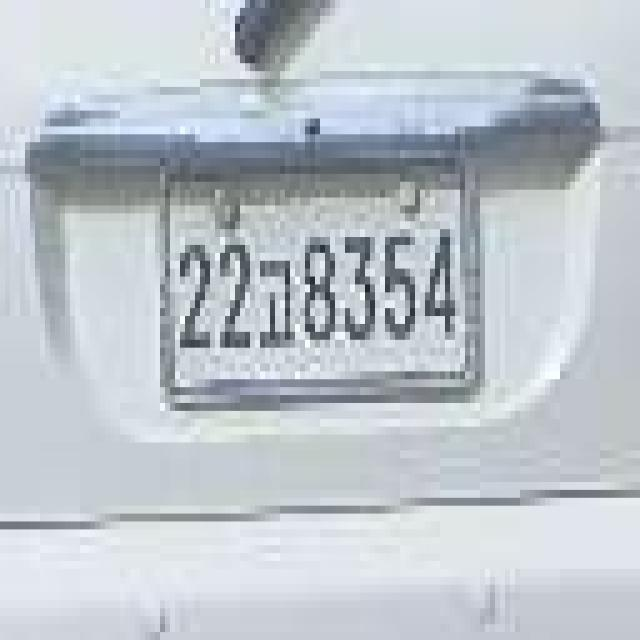2: (217, 224, 255, 362), (177, 224, 213, 361)
3: (343, 215, 378, 352)
4: (422, 212, 462, 348)
5: (383, 212, 418, 351)
8: (301, 215, 338, 355)
go: (258, 242, 298, 360)
license_plate: (168, 176, 476, 384)
